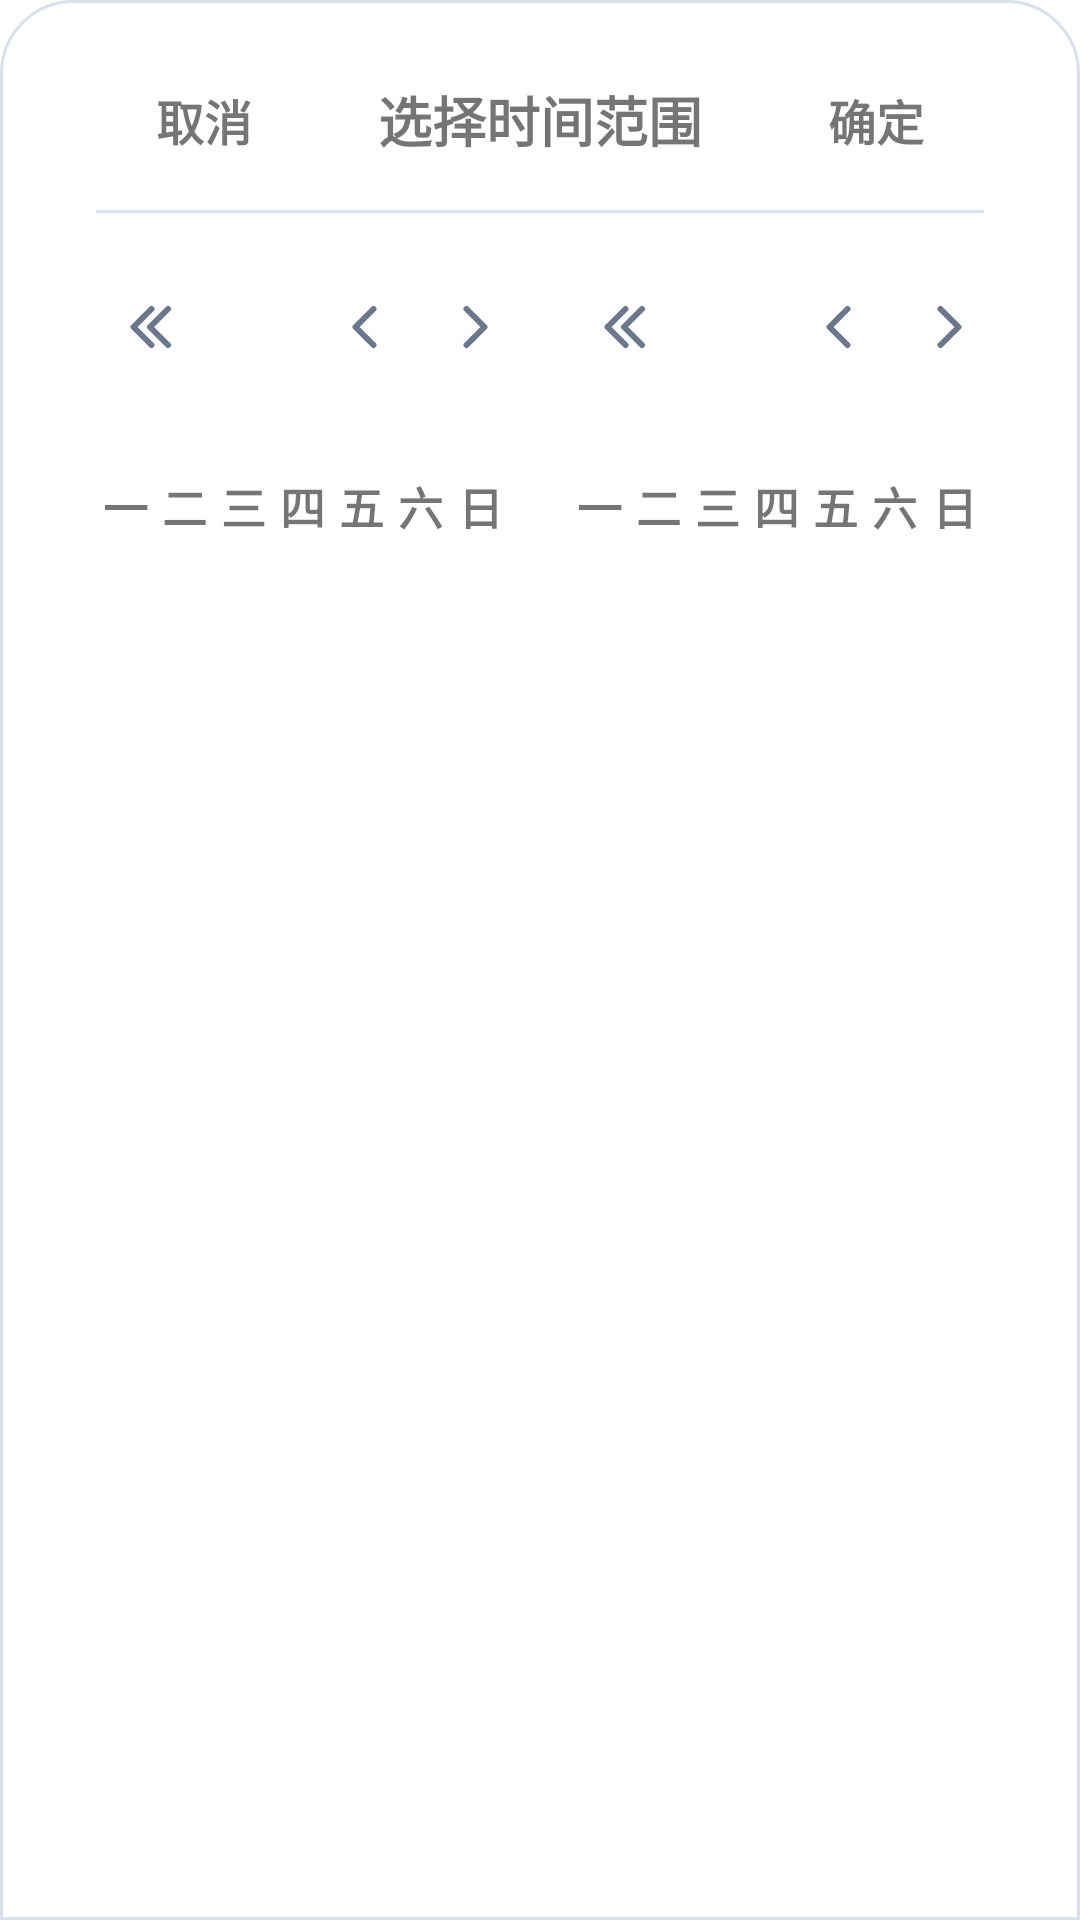

Where icons sit on this 1080 x 1920 app screen, as region(x1, y1, x2, y2):
上一年: region(130, 306, 171, 348), region(604, 306, 645, 348)
上一月: region(352, 306, 377, 348), region(826, 306, 851, 348)
